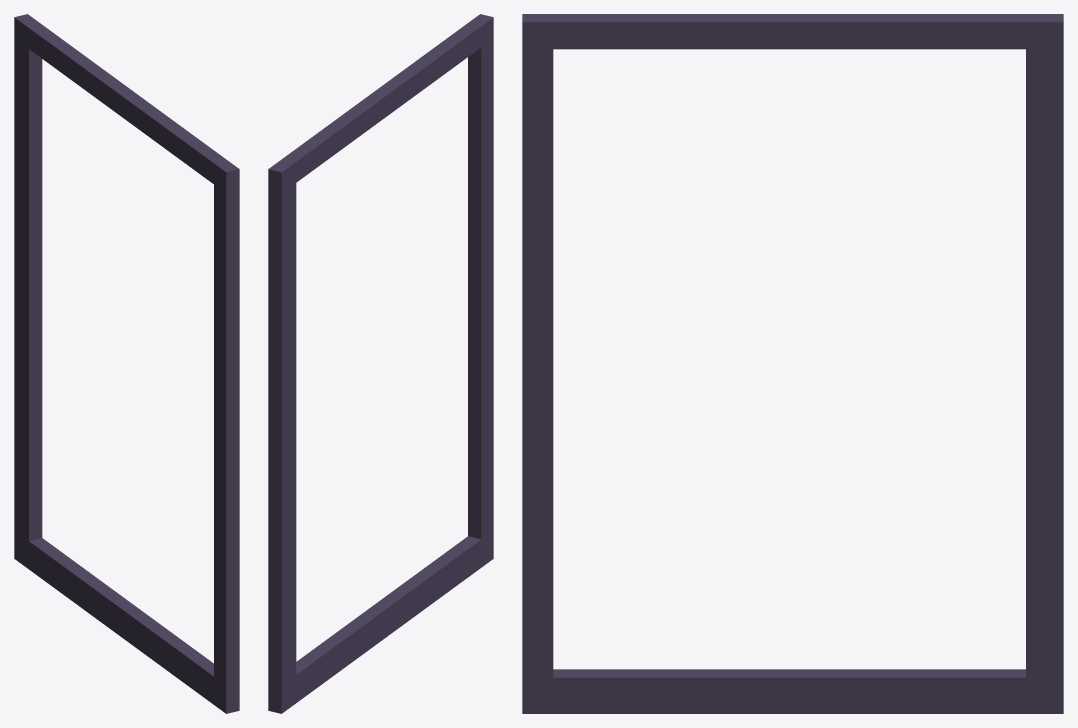
File: LongFrame3.fbx
3 views of the same model, side by side, from view 1: azimuth 30°, elevation 25°; view 2: azimuth 150°, elevation 25°; view 3: azimuth 270°, elevation 25° (orthographic). The views are drawn at different scales.
Parts seen in each view (by area): view 1: LongFrame3; view 2: LongFrame3; view 3: LongFrame3.
Boxes of the visible parts, x1,y1,x2,y2 form: LongFrame3: (14, 14, 239, 713); LongFrame3: (268, 14, 493, 713); LongFrame3: (522, 14, 1063, 713).
Size of the model in its own units: 4.28 by 166 by 118.
